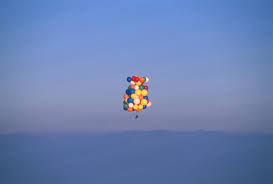Balloon: (142, 89, 148, 95), (141, 99, 147, 105), (134, 98, 140, 104), (124, 104, 129, 110), (134, 85, 140, 90), (136, 90, 141, 96), (127, 98, 133, 103), (127, 77, 131, 82), (135, 77, 139, 82), (132, 76, 135, 81)
